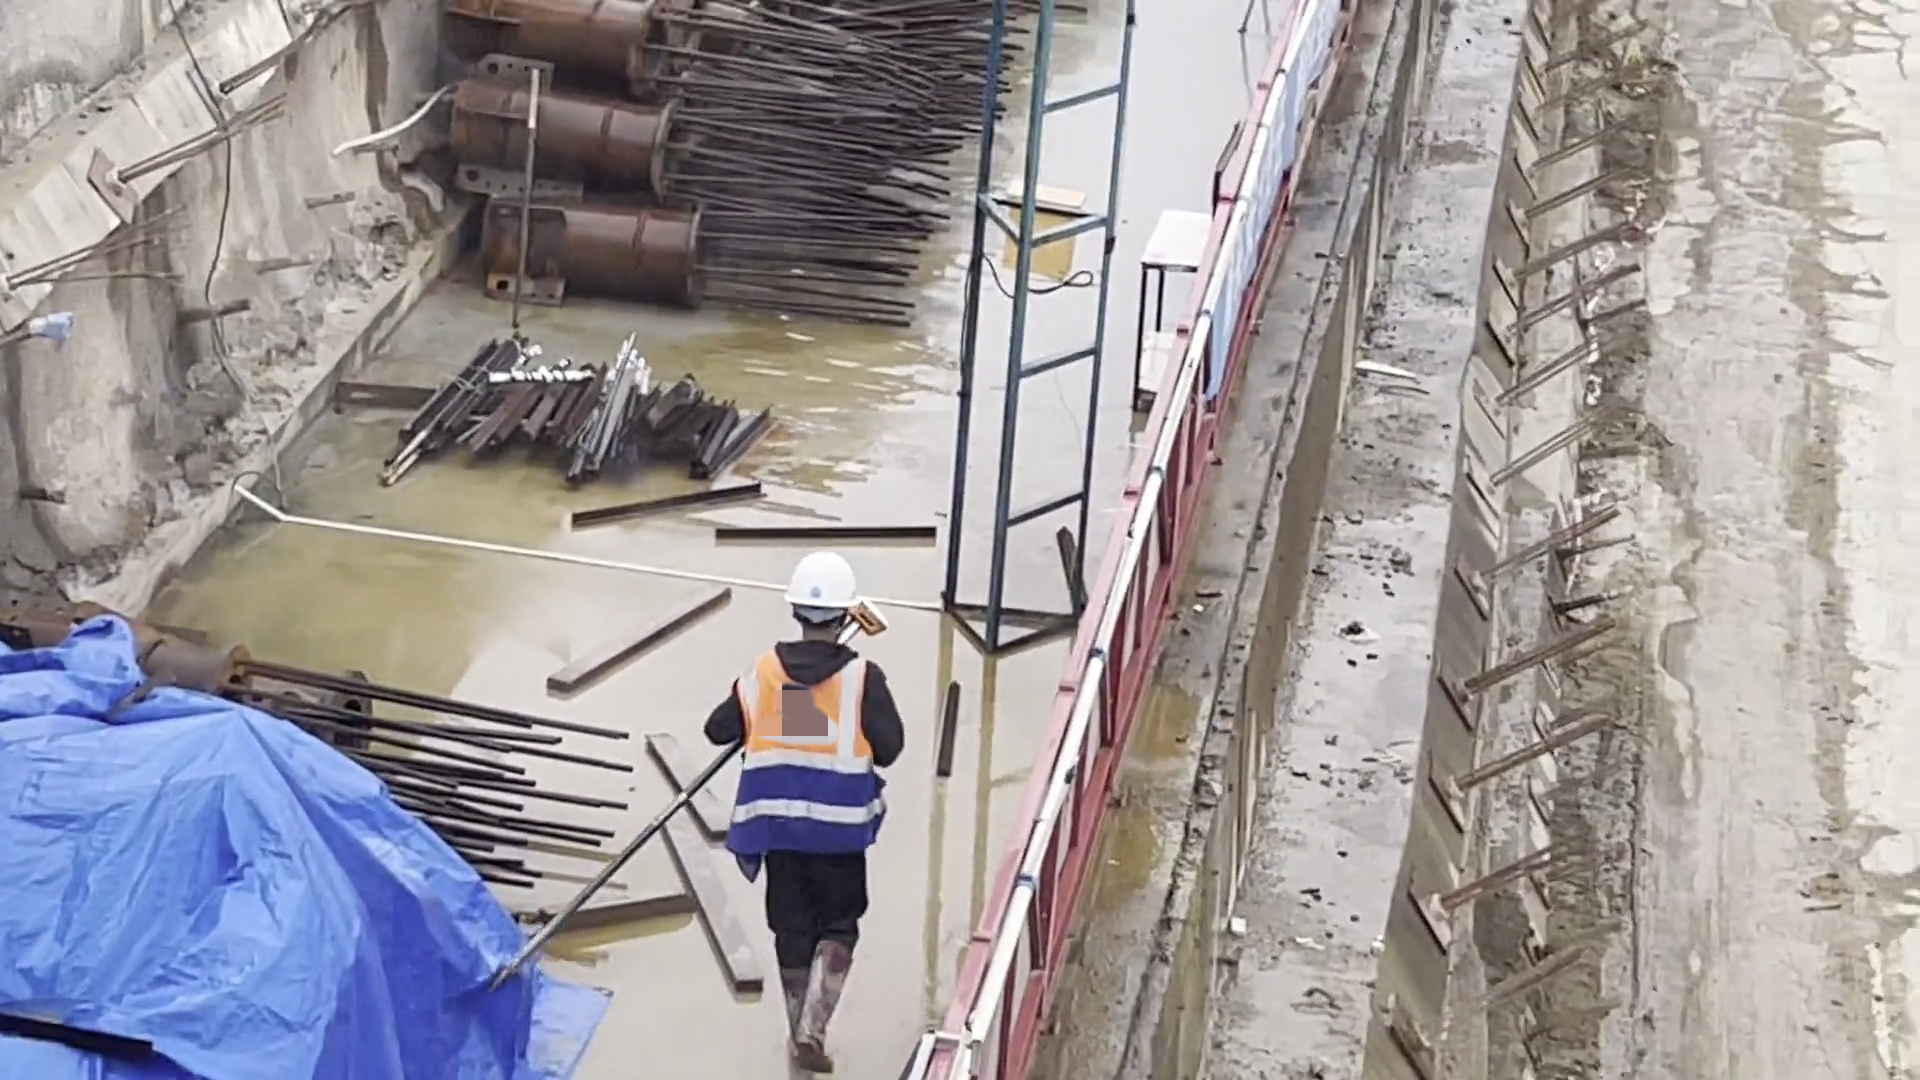ebox: (991, 180, 1092, 289)
fence: (1023, 497, 1181, 922), (1121, 201, 1254, 604), (896, 845, 1063, 1080), (1223, 4, 1338, 320)
helmet: (782, 546, 866, 629)
person: (681, 539, 914, 1080)
slogan: (1213, 8, 1329, 414)
vest: (710, 649, 894, 866)
